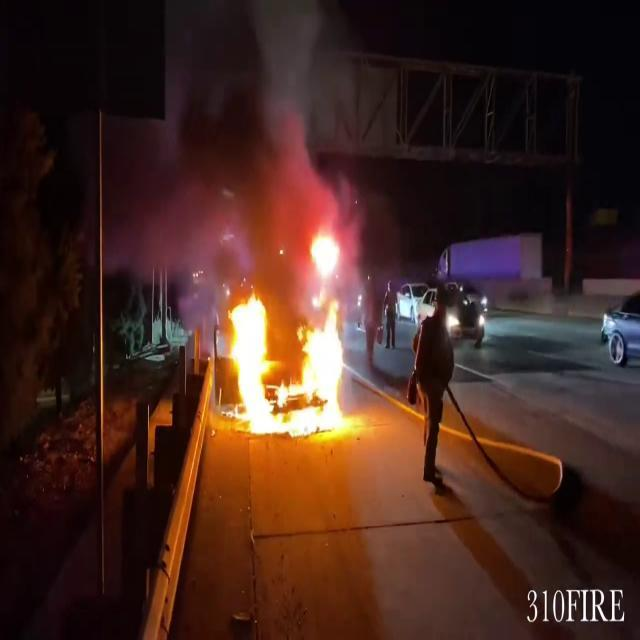Fire: (222, 214, 356, 441)
Smoke: (118, 1, 338, 307)
